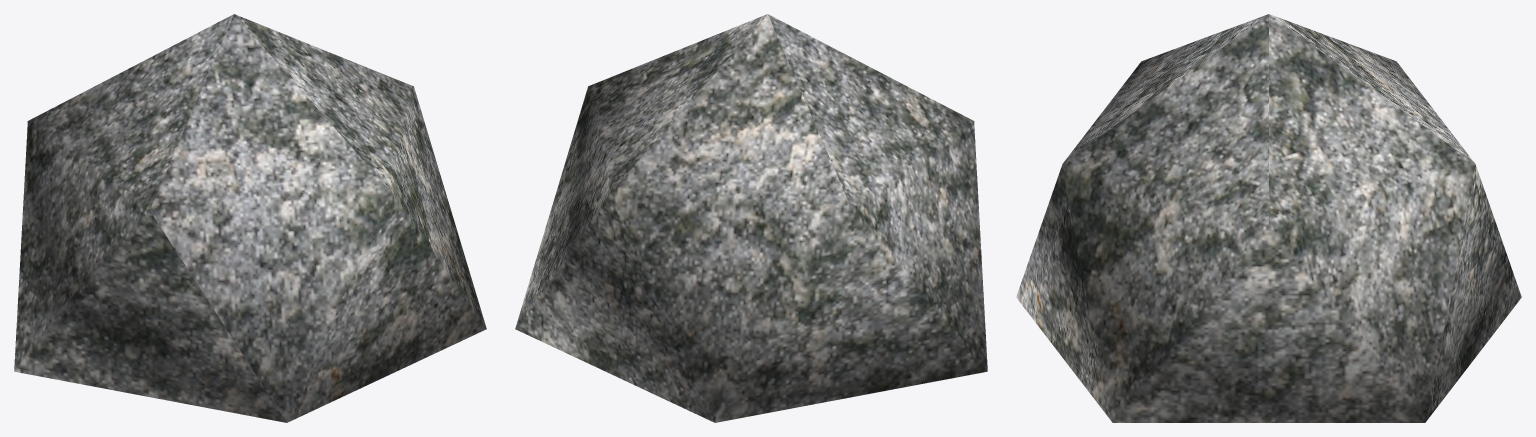
The model's file is rock.glb.
3 views of the same model, side by side, from view 1: azimuth 30°, elevation 25°; view 2: azimuth 150°, elevation 25°; view 3: azimuth 270°, elevation 25° (orthographic). The views are drawn at different scales.
Parts seen in each view (by area): view 1: Icosphere; view 2: Icosphere; view 3: Icosphere.
Part boxes in pixels (<box>): Icosphere: <box>14,14,486,422</box>; Icosphere: <box>515,14,987,422</box>; Icosphere: <box>1016,14,1521,422</box>.
Size of the model in its own units: 3.12 by 2.34 by 3.27.
Materials: 1 (1 with a texture image).
